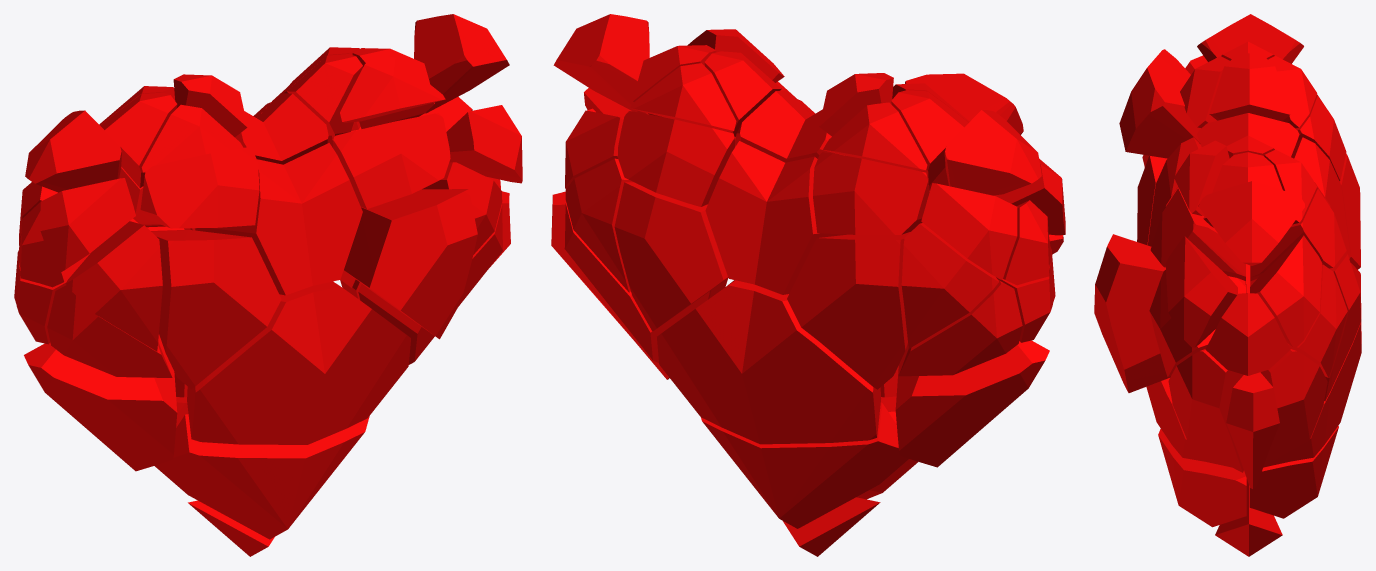
Rendered from Env_Heart_05a.fbx.
The picture shows the model from 3 angles, left to right: view 1: azimuth 30°, elevation 25°; view 2: azimuth 150°, elevation 25°; view 3: azimuth 270°, elevation 25°; orthographic projection. The views are drawn at different scales.
Parts seen in each view (by area): view 1: Cube.009_cell.002; view 2: Cube.009_cell.002; view 3: Cube.009_cell.002.
Part boxes in pixels (left/top/right/bottom): Cube.009_cell.002: left=14, top=14, right=522, bottom=556; Cube.009_cell.002: left=551, top=14, right=1065, bottom=556; Cube.009_cell.002: left=1094, top=14, right=1361, bottom=556.
Bounding box in the file's own units: 142 × 136 × 69.7.
